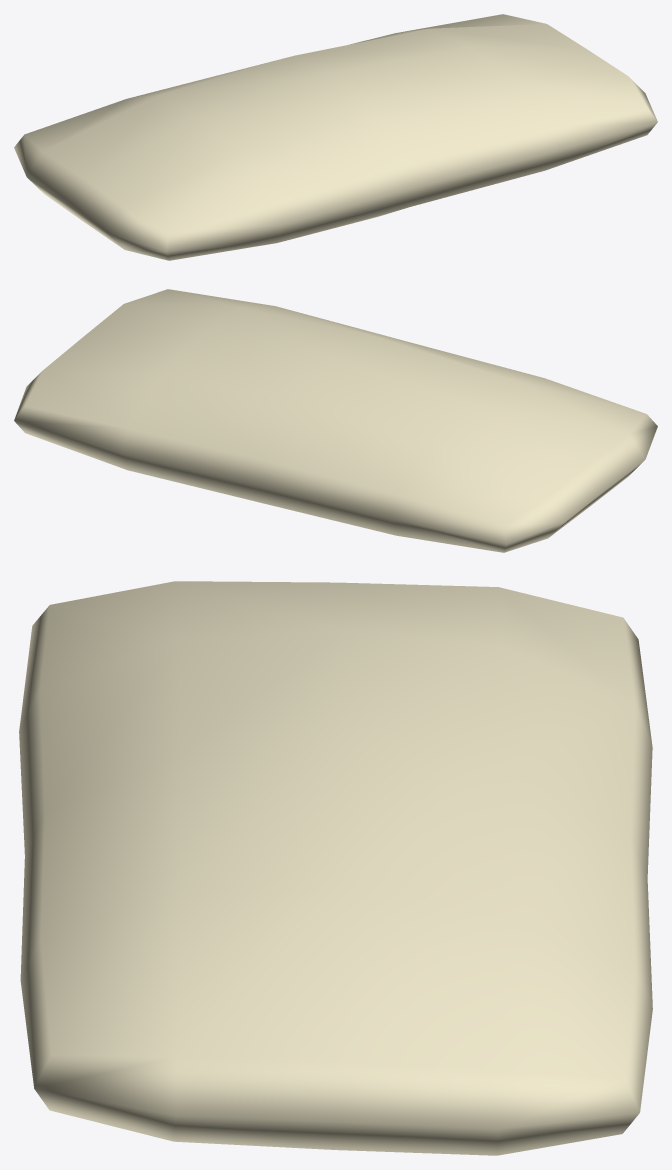
The model's file is atoll_Pillow.fbx.
3 views of the same model, one above another, from view 1: azimuth 30°, elevation 25°; view 2: azimuth 150°, elevation 25°; view 3: azimuth 270°, elevation 25° (orthographic). The views are drawn at different scales.
Visible parts, largest first — view 1: Pillow; view 2: Pillow; view 3: Pillow.
Boxes of the visible parts, x1=… form: Pillow: x1=14, y1=14, x2=657, y2=260; Pillow: x1=14, y1=289, x2=657, y2=552; Pillow: x1=19, y1=581, x2=652, y2=1155.
Size of the model in its own units: 140 by 31.25 by 71.37.
